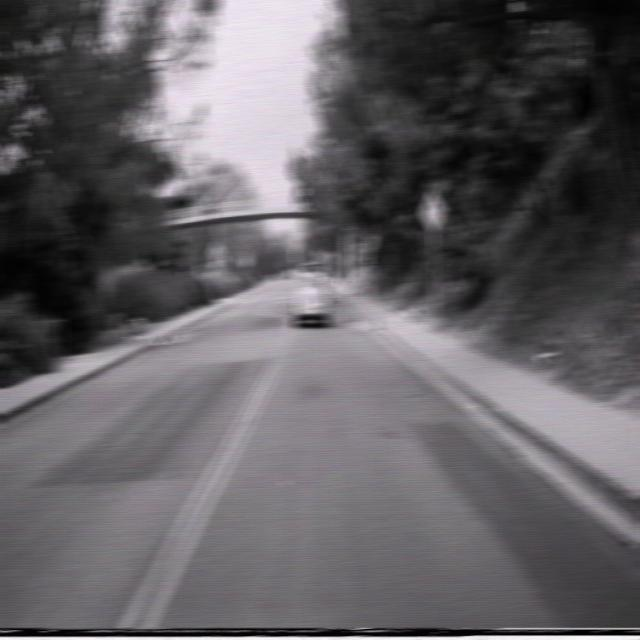pedestrianCrossing: (414, 187, 440, 226)
